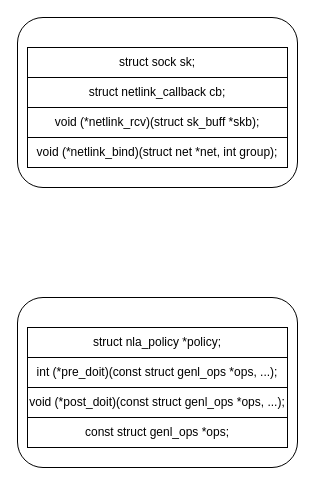
The diagram is 315 pixels wide and 485 high, and some of its shapes have lost their labels. The box of each missing label's shape, as (x1, y1, x2, y2) in pixels:
genl_family: (16, 296, 298, 468)
netlink_sock: (16, 16, 298, 188)
